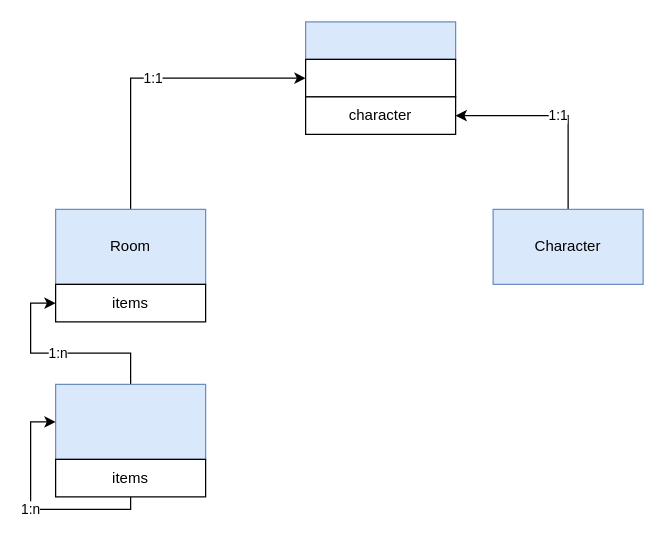
The diagram is 665 pixels wide and 541 high, and some of its shapes have lost their labels. The shapes that lost their labels are listed below. From the top down, each one's box as (x1, y1, x2, y2) in pixels, then its label:
(304, 21, 456, 59): GameState
(304, 58, 456, 97): current_room
(54, 383, 206, 459): Item
